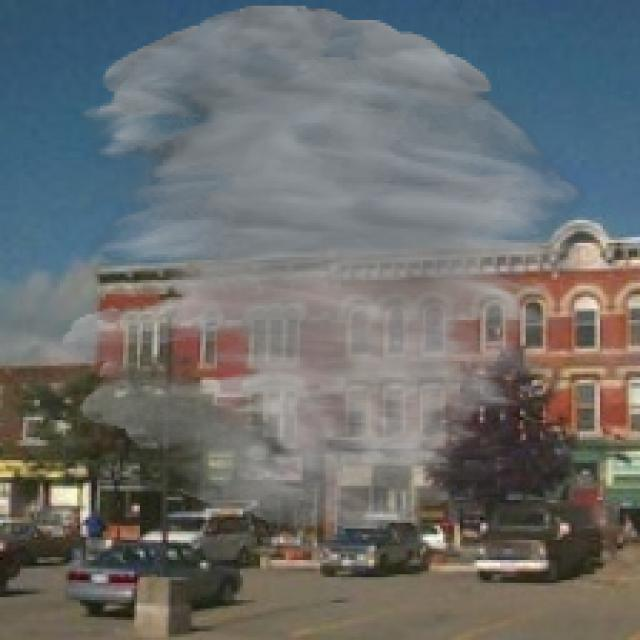smoke: (60, 6, 589, 531)
